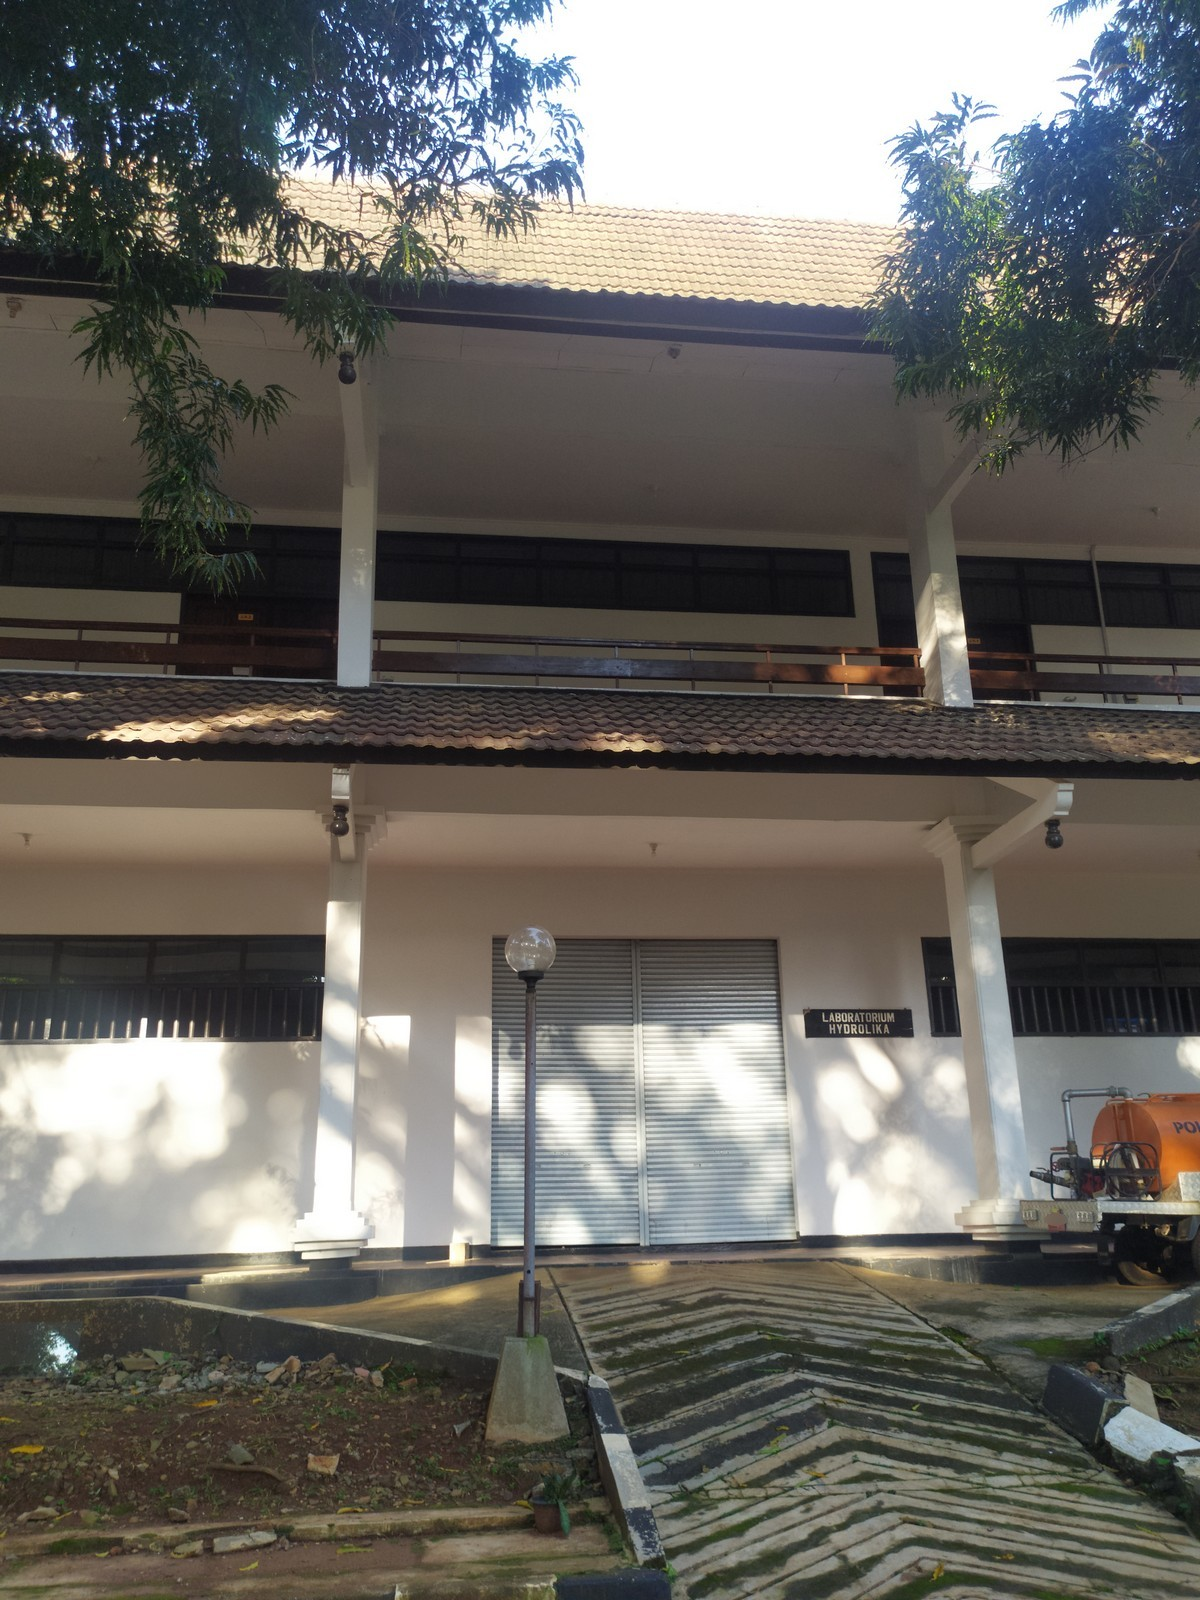concrete column: (939, 813, 1039, 1207), (897, 401, 979, 719), (304, 837, 368, 1220), (332, 404, 391, 695)
